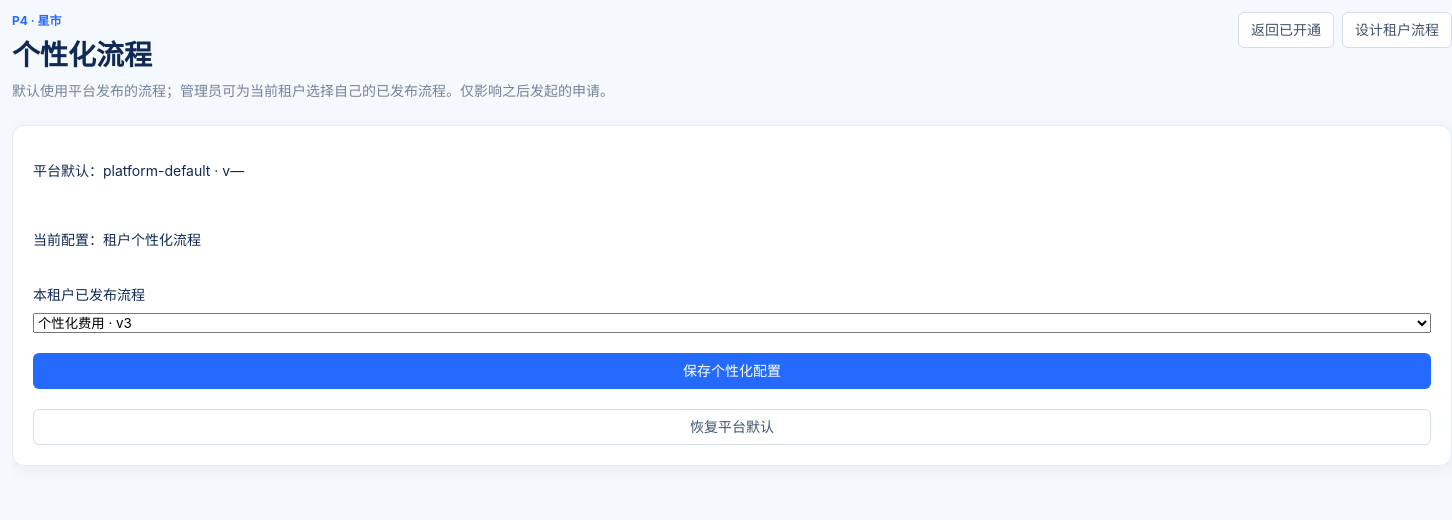
Test: tenant process customization › restores default without modifying a process
Click the button "恢复平台默认": (732, 427) [33,409,1431,445]
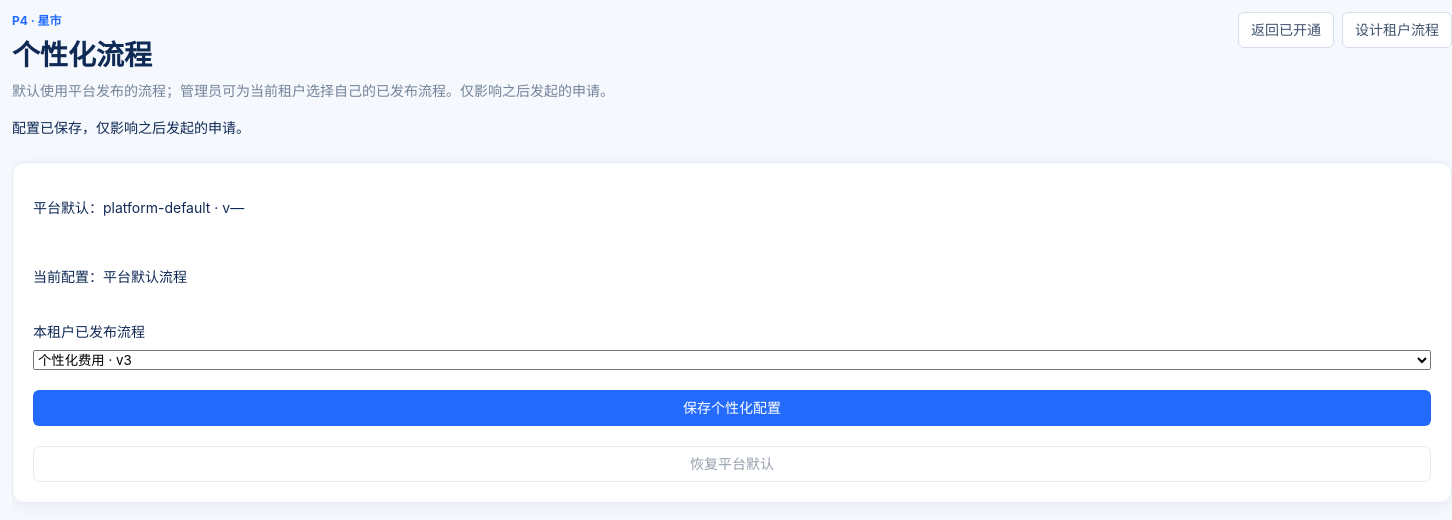
Now the text "平台默认流程" is shown, box [33,268,187,285]
